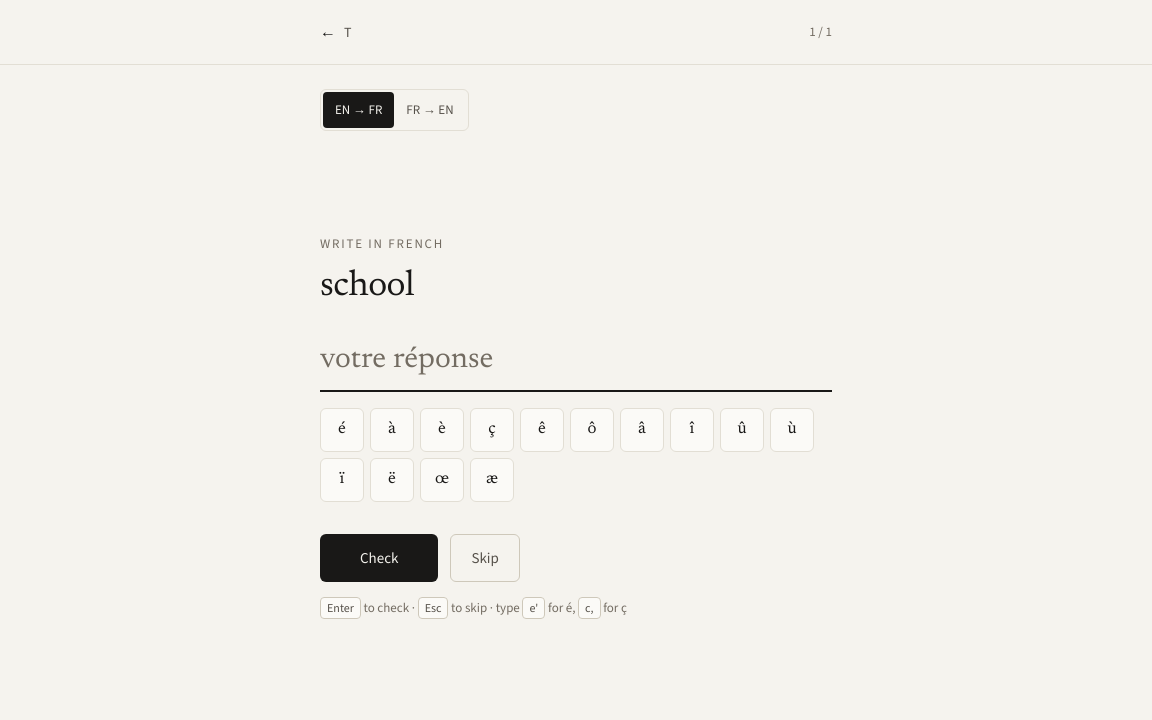
Test: tracking is best-effort › posts attempts with the fields the dashboard needs
This screenshot has width=1152, height=720.
Type "l'ecole" into the field named "answer in french" at x=576, y=367, box x1=320 y1=342 x2=832 y2=392
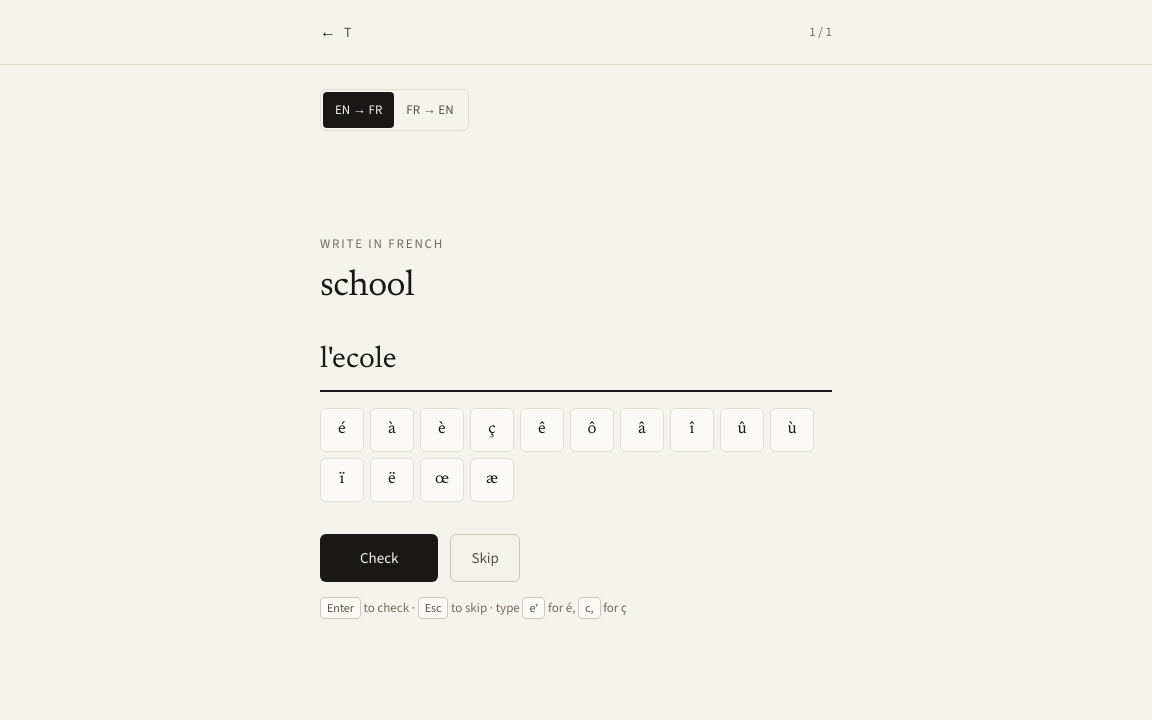
Click the button "Check" at x=379, y=558, box x1=320 y1=534 x2=438 y2=582
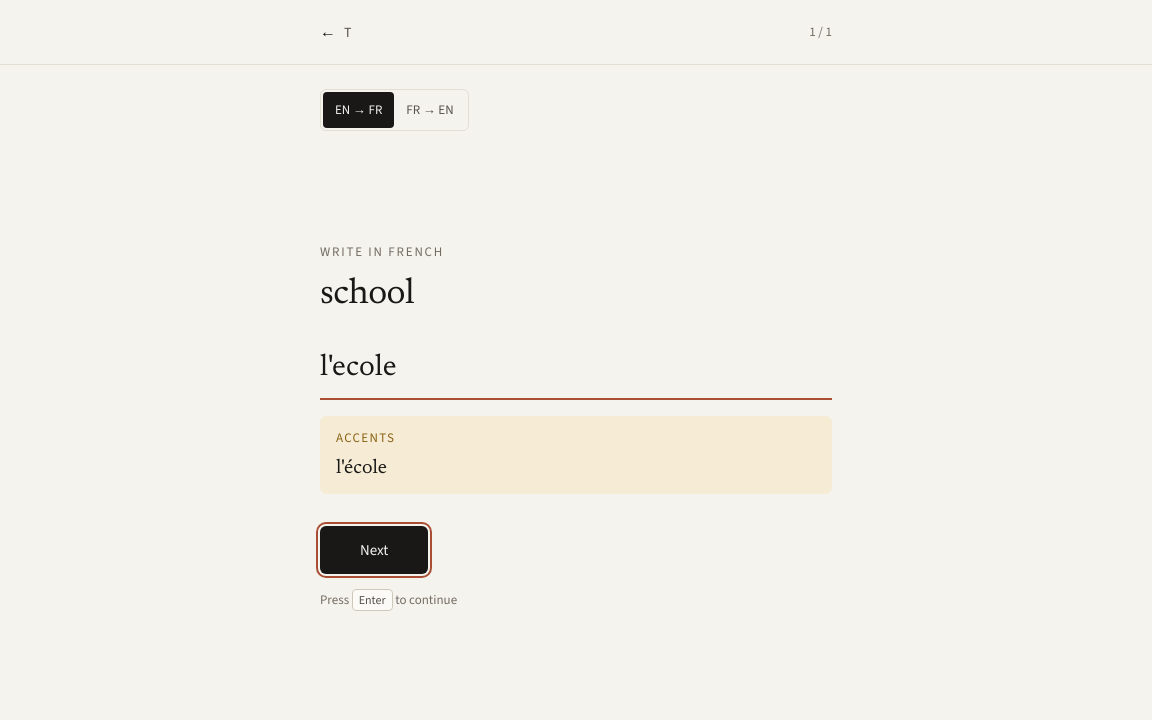
Check: the heading "school" is shown, box x1=320 y1=277 x2=414 y2=313
Check: the text "l'école" is shown, box x1=336 y1=458 x2=387 y2=478
